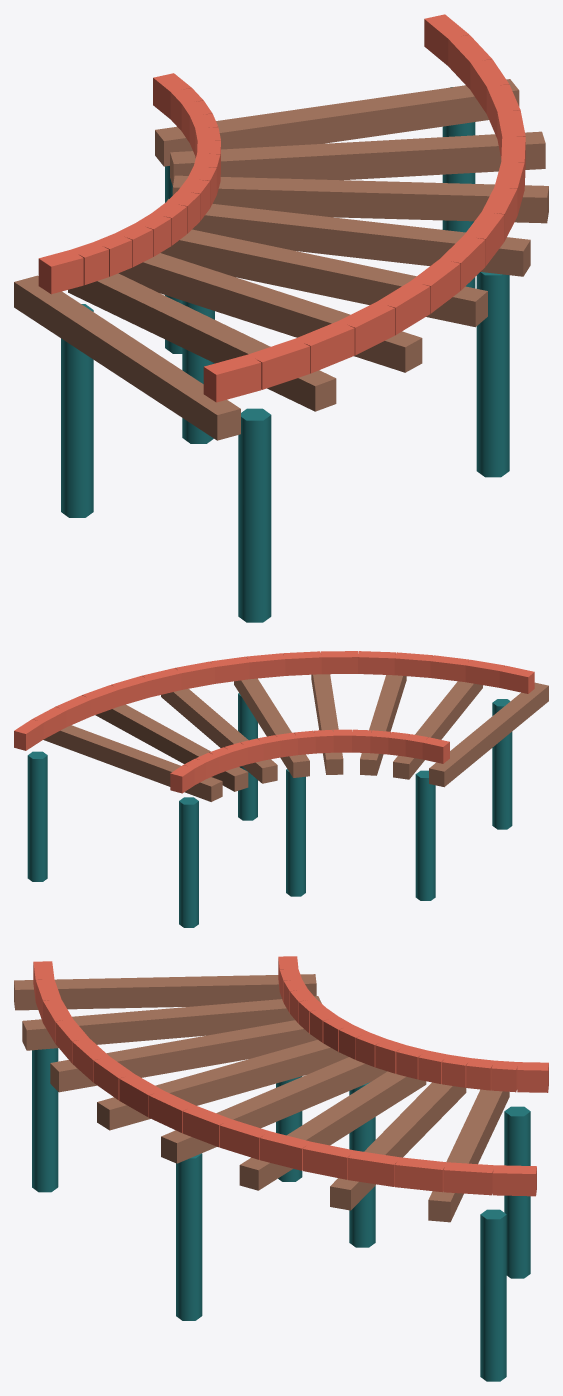
File: track_turn_left.glb
3 views of the same model, one above another, from view 1: azimuth 30°, elevation 25°; view 2: azimuth 150°, elevation 25°; view 3: azimuth 270°, elevation 25° (orthographic). The views are drawn at different scales.
Parts seen in each view (by area): view 1: track_turn_left; view 2: track_turn_left; view 3: track_turn_left.
Part boxes in pixels (<box>): track_turn_left: <box>14,14,548,622</box>; track_turn_left: <box>14,651,548,927</box>; track_turn_left: <box>14,956,548,1381</box>.
Size of the model in its own units: 2.86 by 1.22 by 2.84.
